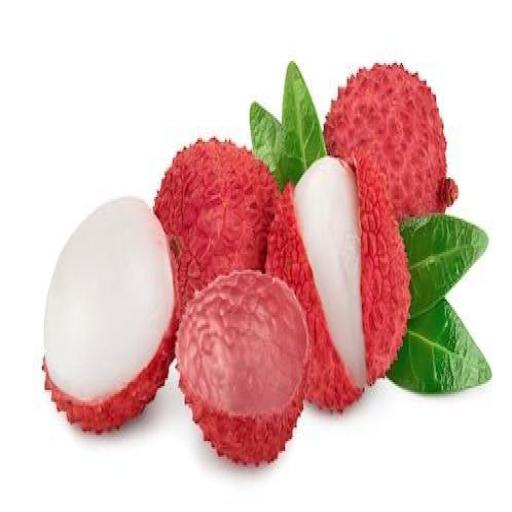lychee: (267, 152, 410, 411), (44, 197, 178, 433), (176, 270, 309, 464), (324, 65, 457, 220), (155, 140, 277, 305)
